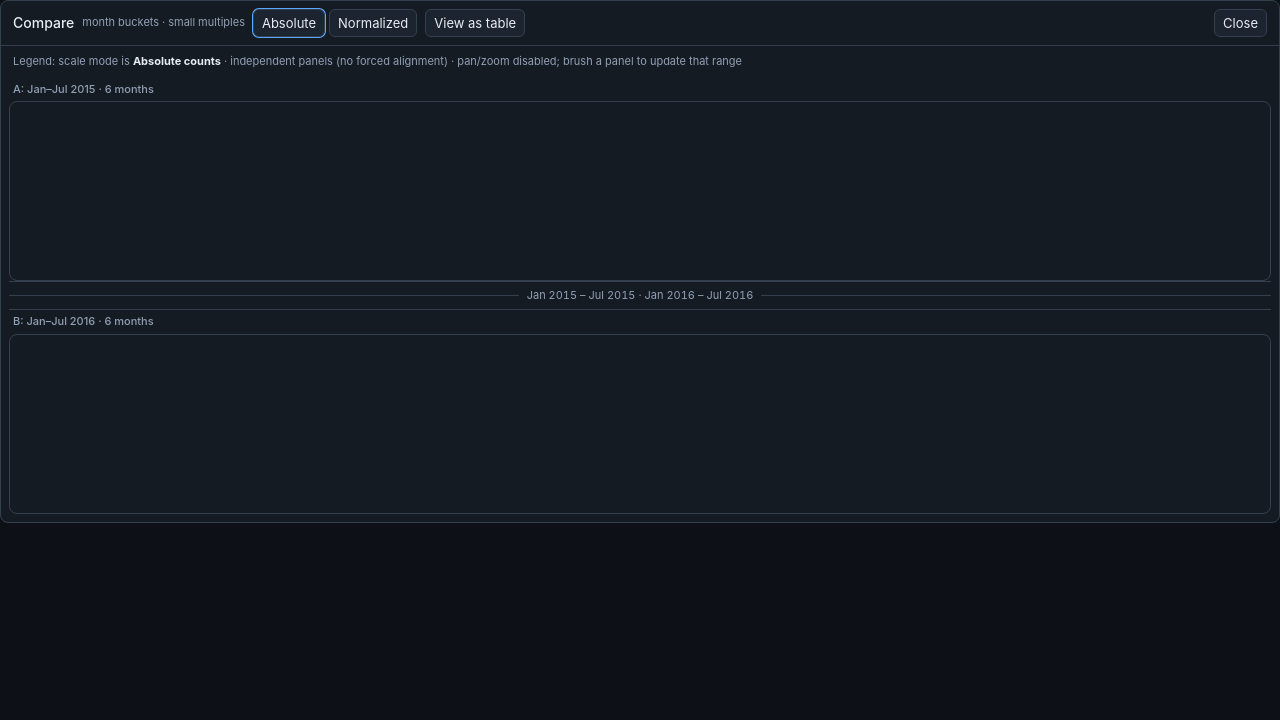
it: CompareView › legend reflects Absolute | Normalized toggle
The width and height of the screenshot is (1280, 720).
Check: the message with test id "compare-legend" shows "Absolute counts", box [133,54,221,68]
Click the button with test id "compare-scale-normalized". click: (373, 23)
box: [329,9,417,37]
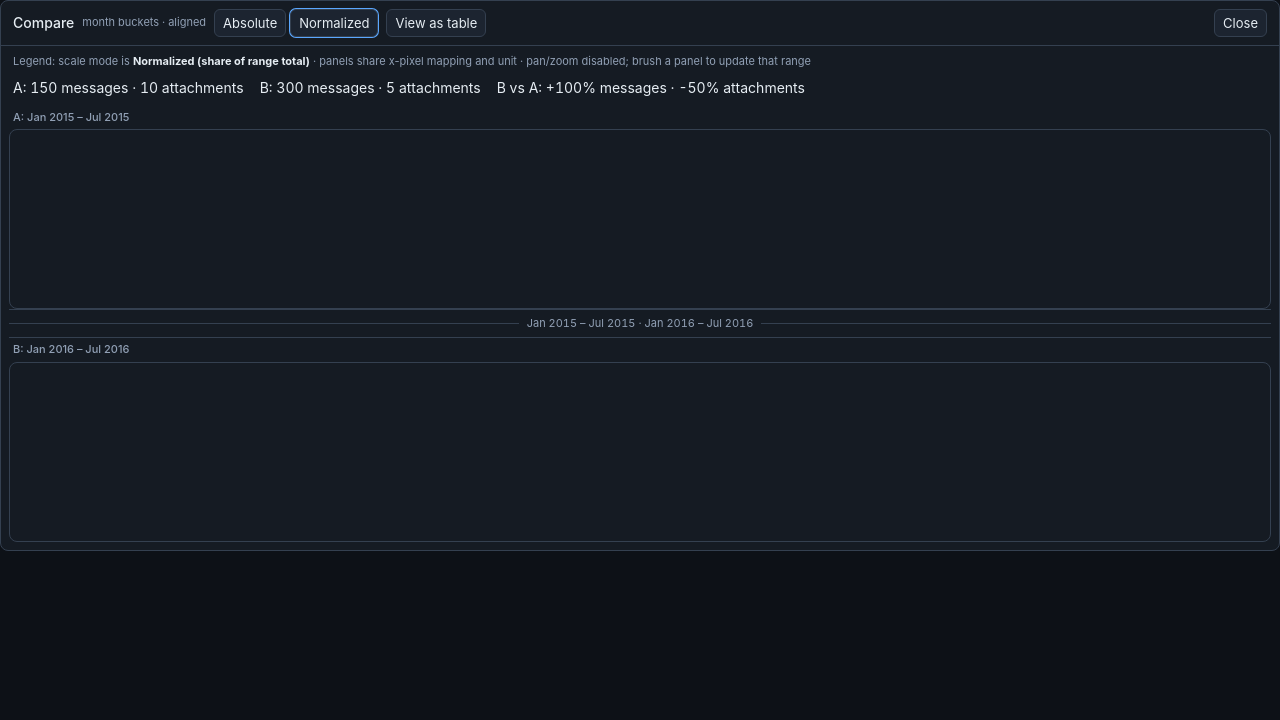
Check: the message with test id "compare-legend" shows "Normalized", box [133,54,310,68]
Click the button with test id "compare-scale-absolute". click: (250, 23)
box: [214,9,286,37]
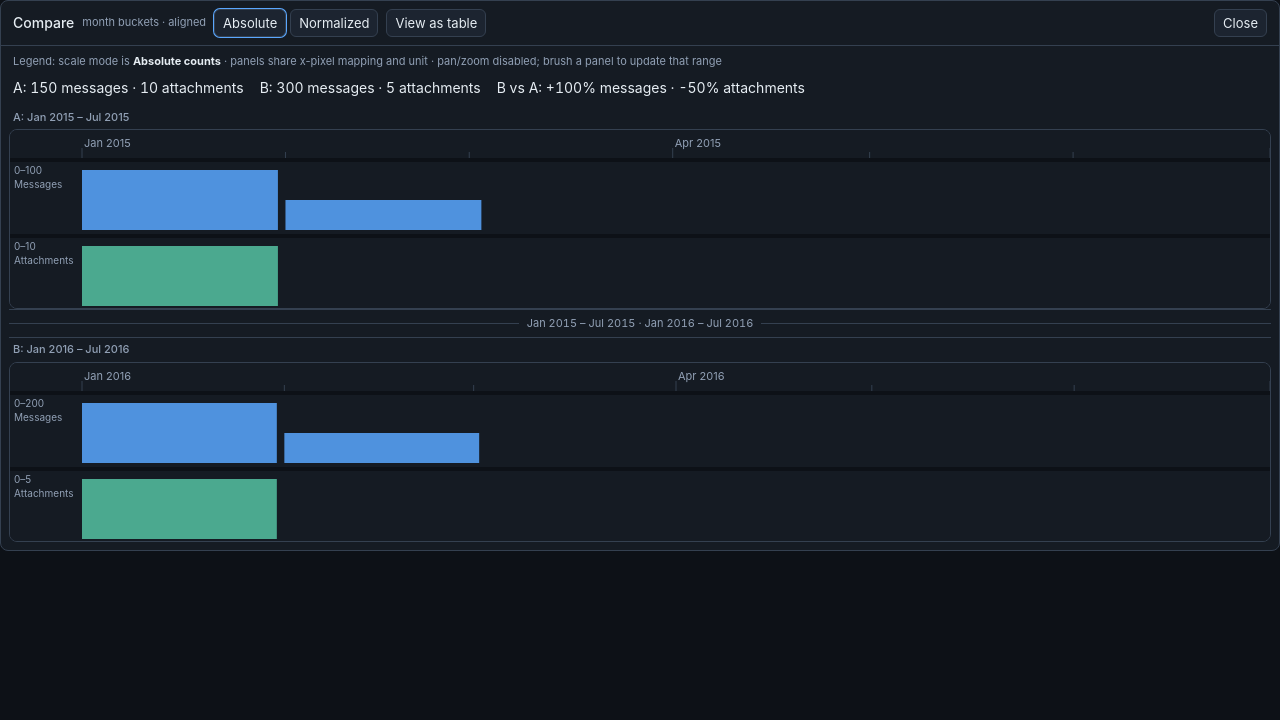
Check: the message with test id "compare-legend" shows "Absolute counts", box [133,54,221,68]
